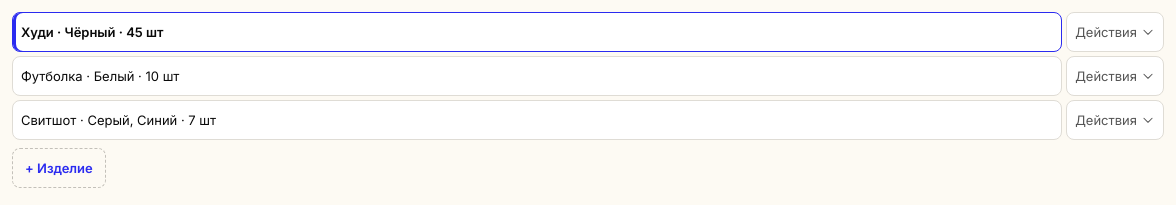
ItemList — список изделий заказа › Escape закрывает меню и возвращает фокус на кнопку меню
Click the button with aria-label "Действия с изделием «Худи · Чёрный · 45 шт»".
click(1115, 32)  # box [1066,12,1164,52]
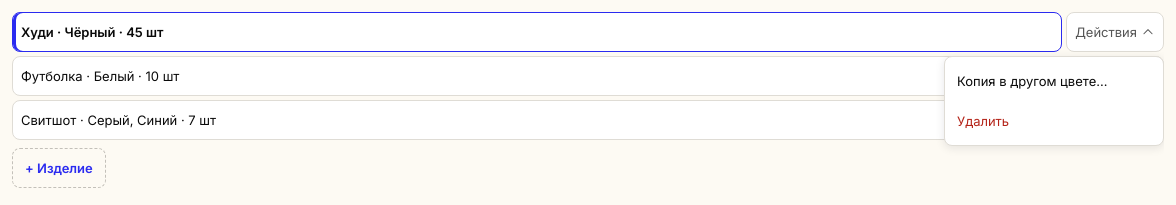
Press Escape in the button "Копия в другом цвете…", box [949,61,1159,101]
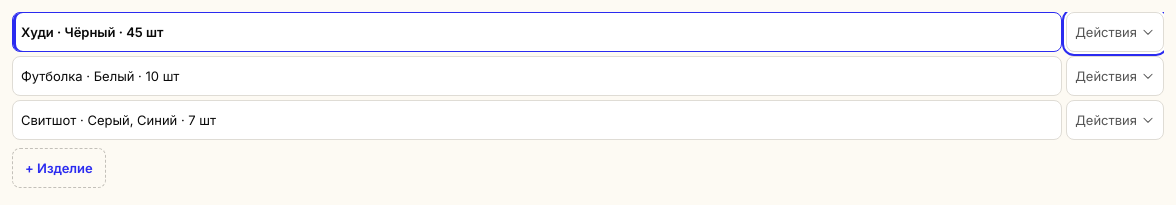
Expected: the button "Копия в другом цвете" is gone
